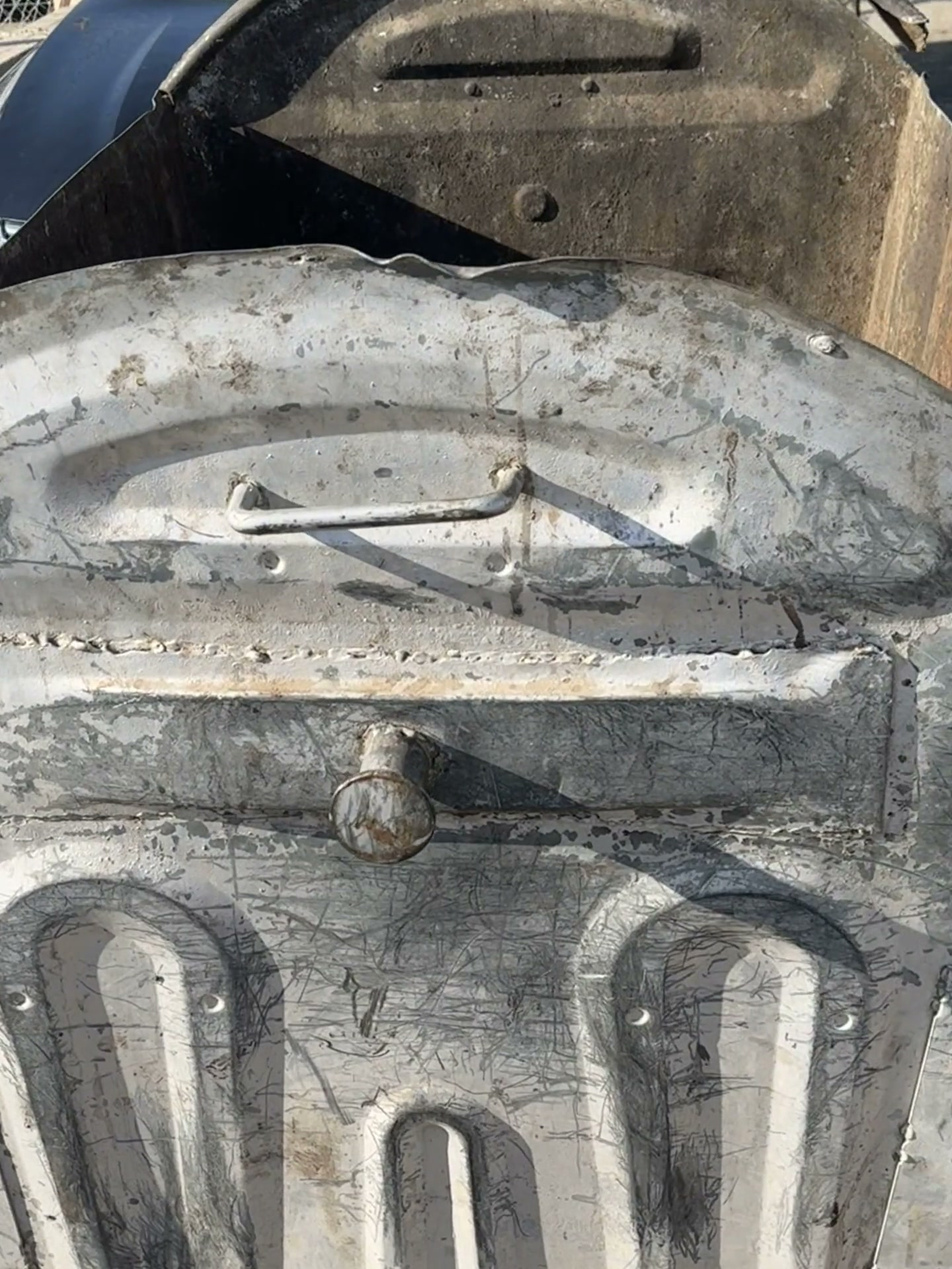trash_container: (18, 18, 952, 1255)
